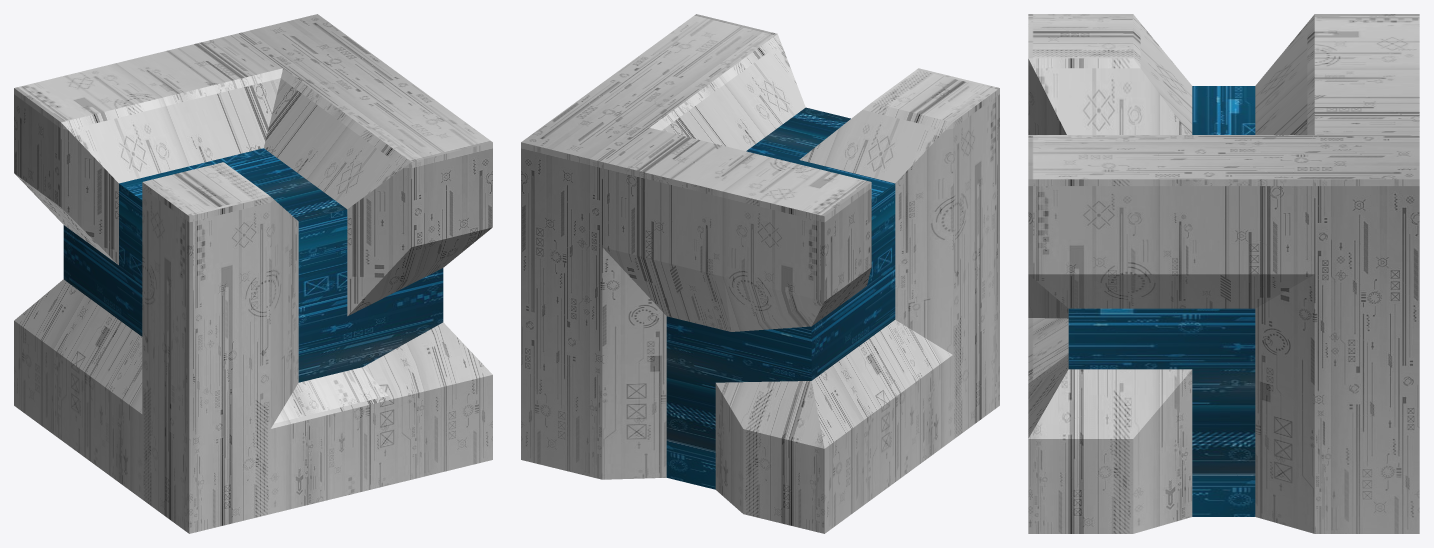
Rendered from Block08.fbx.
3 views of the same model, side by side, from view 1: azimuth 30°, elevation 25°; view 2: azimuth 150°, elevation 25°; view 3: azimuth 270°, elevation 25° (orthographic). The views are drawn at different scales.
Visible parts, largest first — view 1: Cube.007; view 2: Cube.007; view 3: Cube.007.
Boxes of the visible parts, bbox=[...] form: Cube.007: bbox=[14, 14, 492, 533]; Cube.007: bbox=[521, 14, 999, 533]; Cube.007: bbox=[1028, 14, 1419, 533].
Bounding box in the file's own units: 200 × 200 × 200.
